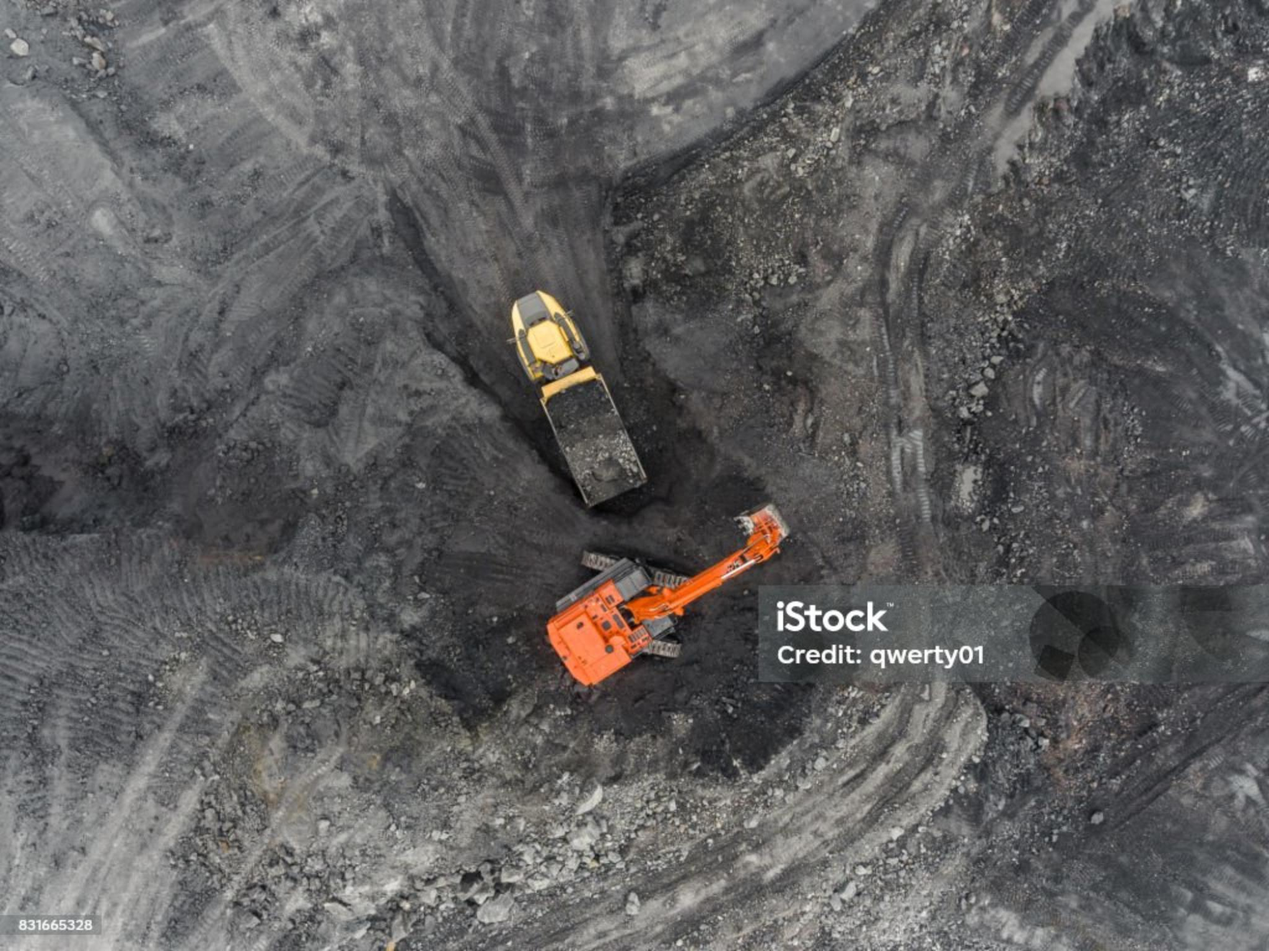excavator: (520, 498, 816, 698)
truck: (475, 281, 677, 521)
